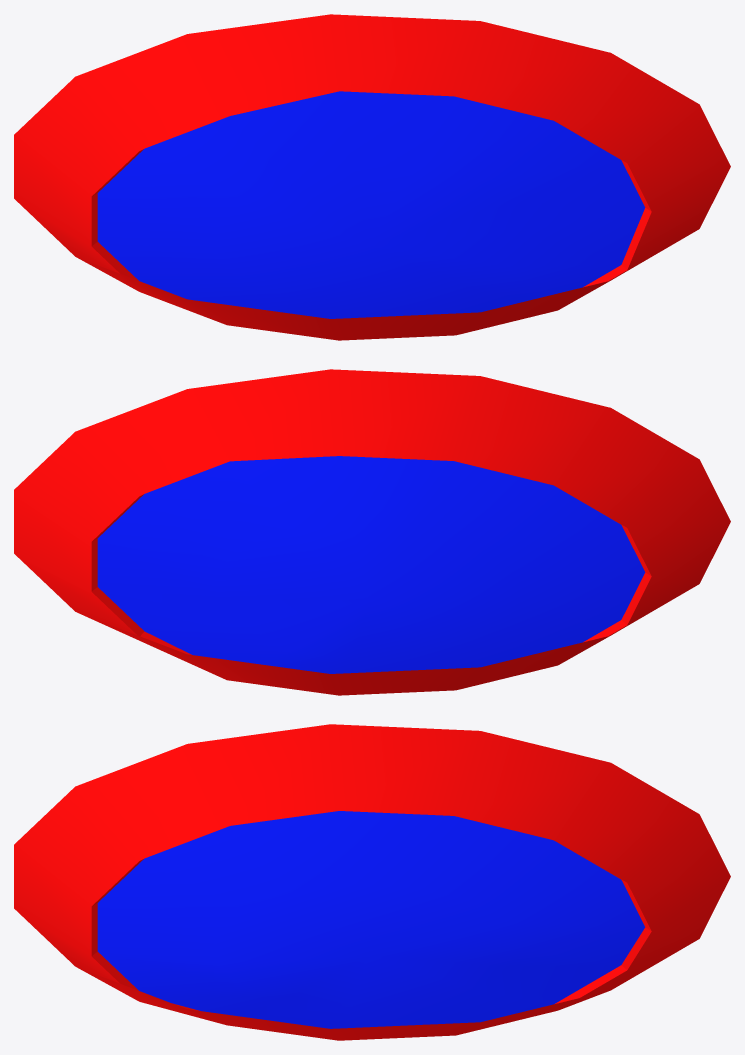
Rendered from Lamp_2.fbx.
The picture shows the model from 3 angles, top to bottom: view 1: azimuth 30°, elevation 25°; view 2: azimuth 150°, elevation 25°; view 3: azimuth 270°, elevation 25°; orthographic projection.
Parts seen in each view (by area): view 1: Lamp_2; view 2: Lamp_2; view 3: Lamp_2.
Part boxes in pixels (x1,y1,x2,y2): Lamp_2: (14,14,730,340); Lamp_2: (14,369,730,695); Lamp_2: (14,724,730,1040).
Bounding box in the file's own units: 49.82 × 6.01 × 49.55.
